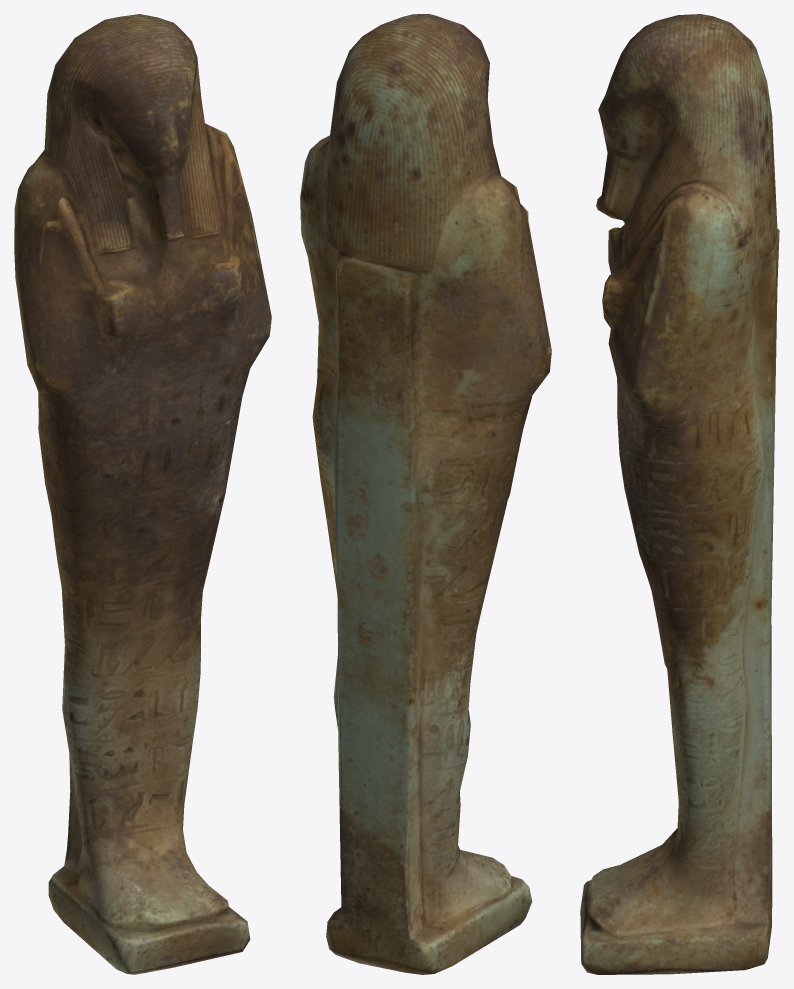
File: Ushabti_Figures_1.fbx
3 views of the same model, side by side, from view 1: azimuth 30°, elevation 25°; view 2: azimuth 150°, elevation 25°; view 3: azimuth 270°, elevation 25° (orthographic).
Visible parts, largest first — view 1: Ushabti_Figures_1_LOD0; view 2: Ushabti_Figures_1_LOD0; view 3: Ushabti_Figures_1_LOD0.
Part boxes in pixels (left/top/right/bottom): Ushabti_Figures_1_LOD0: left=14, top=14, right=271, bottom=974; Ushabti_Figures_1_LOD0: left=300, top=14, right=551, bottom=974; Ushabti_Figures_1_LOD0: left=580, top=14, right=779, bottom=974.
Size of what is drawn, in the model's own units: 52.18 by 200 by 39.16.
